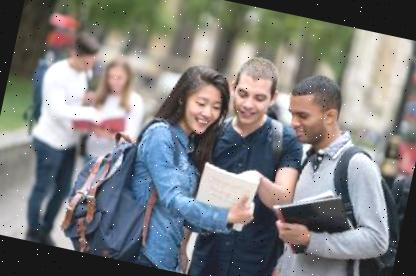person: (248, 63, 410, 276), (106, 52, 237, 276), (188, 43, 311, 276)
